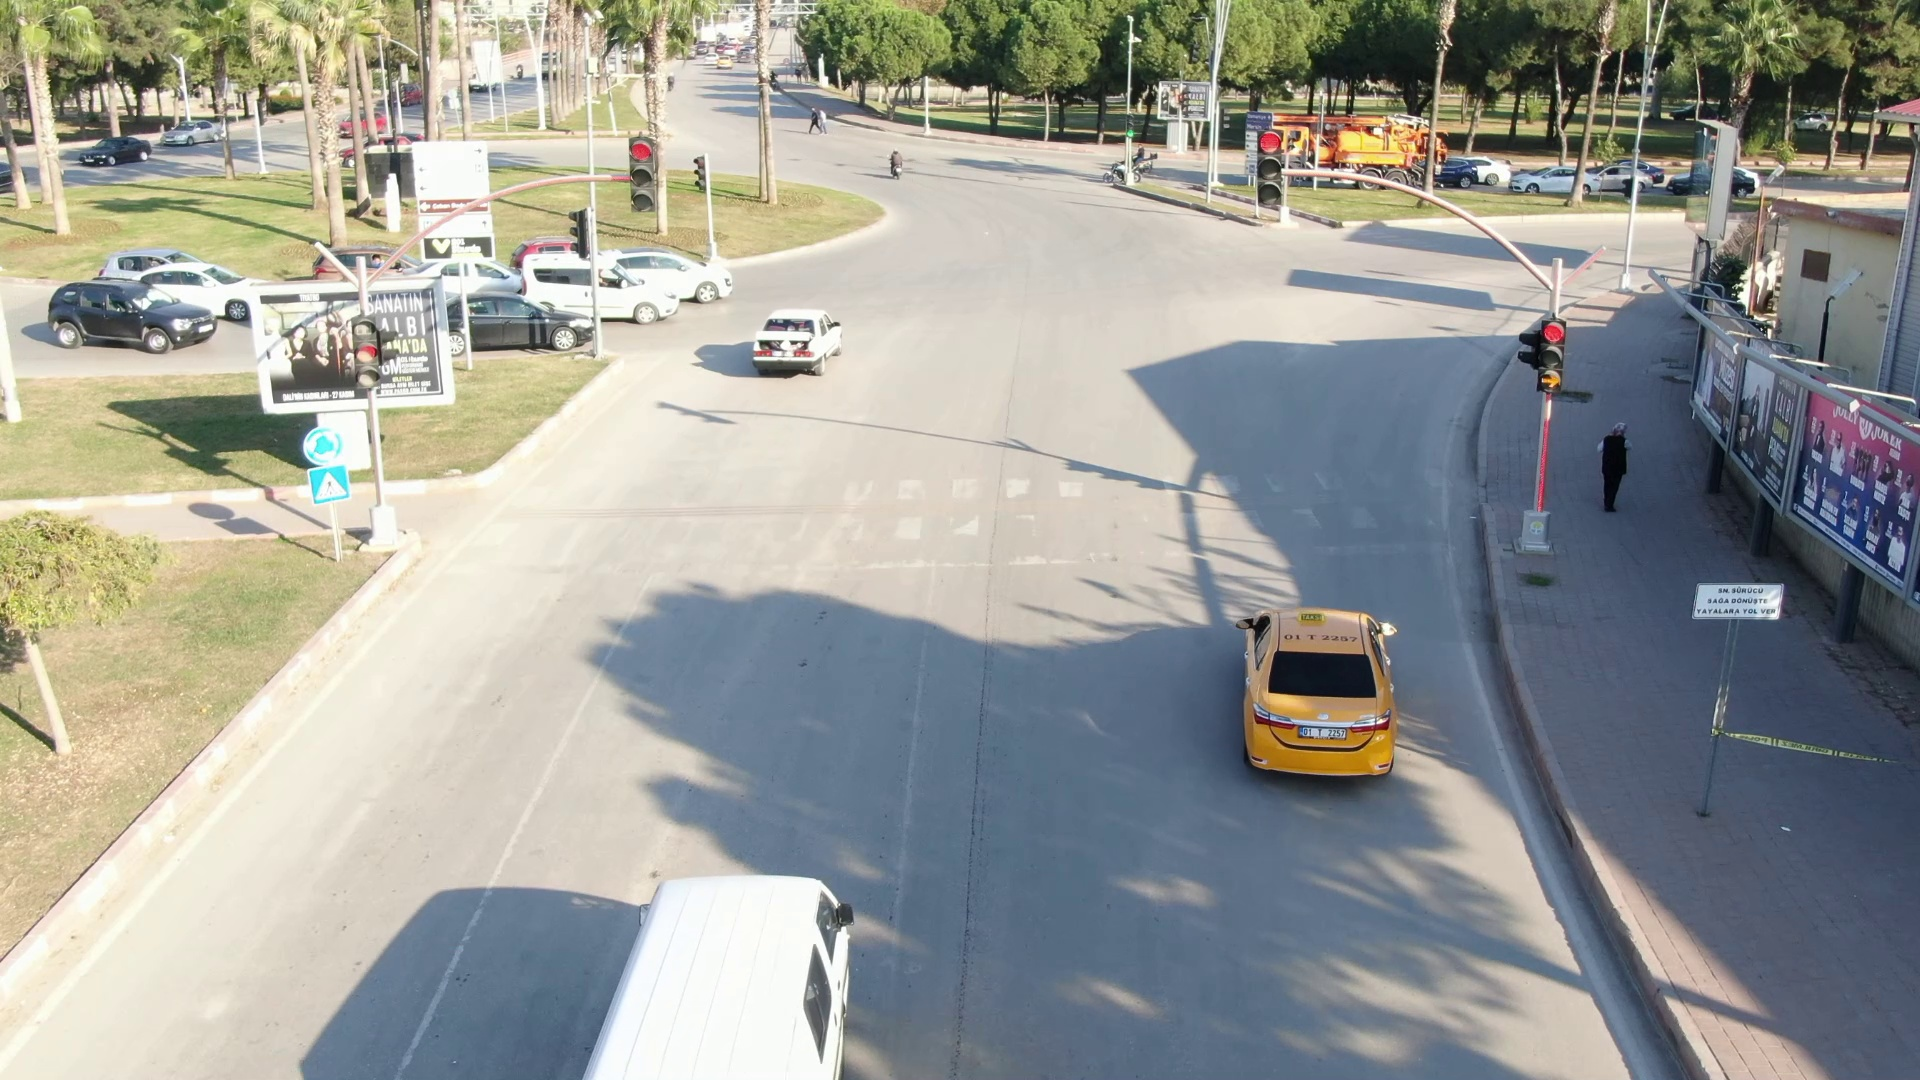car: (565, 866, 878, 1080), (1229, 588, 1410, 782), (35, 278, 217, 353), (135, 247, 292, 331), (512, 239, 672, 317), (449, 296, 602, 353), (735, 304, 853, 376), (602, 237, 741, 298)
person: (1584, 412, 1631, 519), (876, 149, 906, 178)
